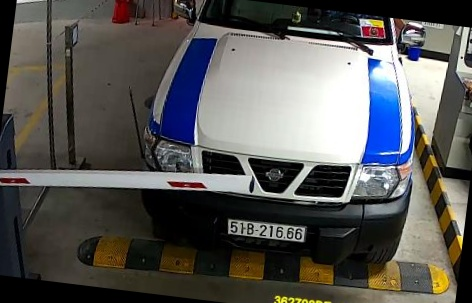plate: (221, 214, 309, 246)
